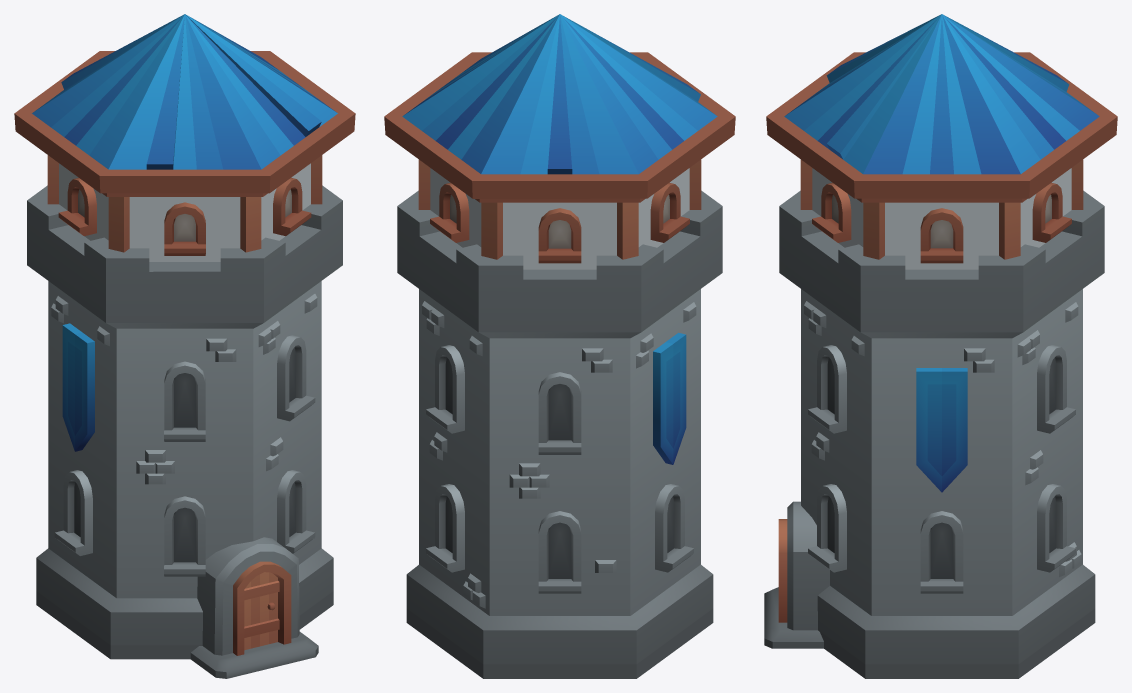
The model's file is building_tower_A_blue.gltf.
The picture shows the model from 3 angles, left to right: view 1: azimuth 30°, elevation 25°; view 2: azimuth 150°, elevation 25°; view 3: azimuth 270°, elevation 25°; orthographic projection. The views are drawn at different scales.
Visible parts, largest first — view 1: building_tower_A_blue, building_tower_A_top_blue; view 2: building_tower_A_blue, building_tower_A_top_blue; view 3: building_tower_A_blue, building_tower_A_top_blue.
Part boxes in pixels (x1,y1,x2,y2): building_tower_A_blue: (27,185,342,678); building_tower_A_top_blue: (14,14,355,261); building_tower_A_blue: (397,190,722,678); building_tower_A_top_blue: (384,14,735,269); building_tower_A_blue: (764,190,1104,678); building_tower_A_top_blue: (766,14,1117,269).
Bounding box in the file's own units: 0.9932 × 2.19 × 1.15.
Materials: 1 (1 with a texture image).
